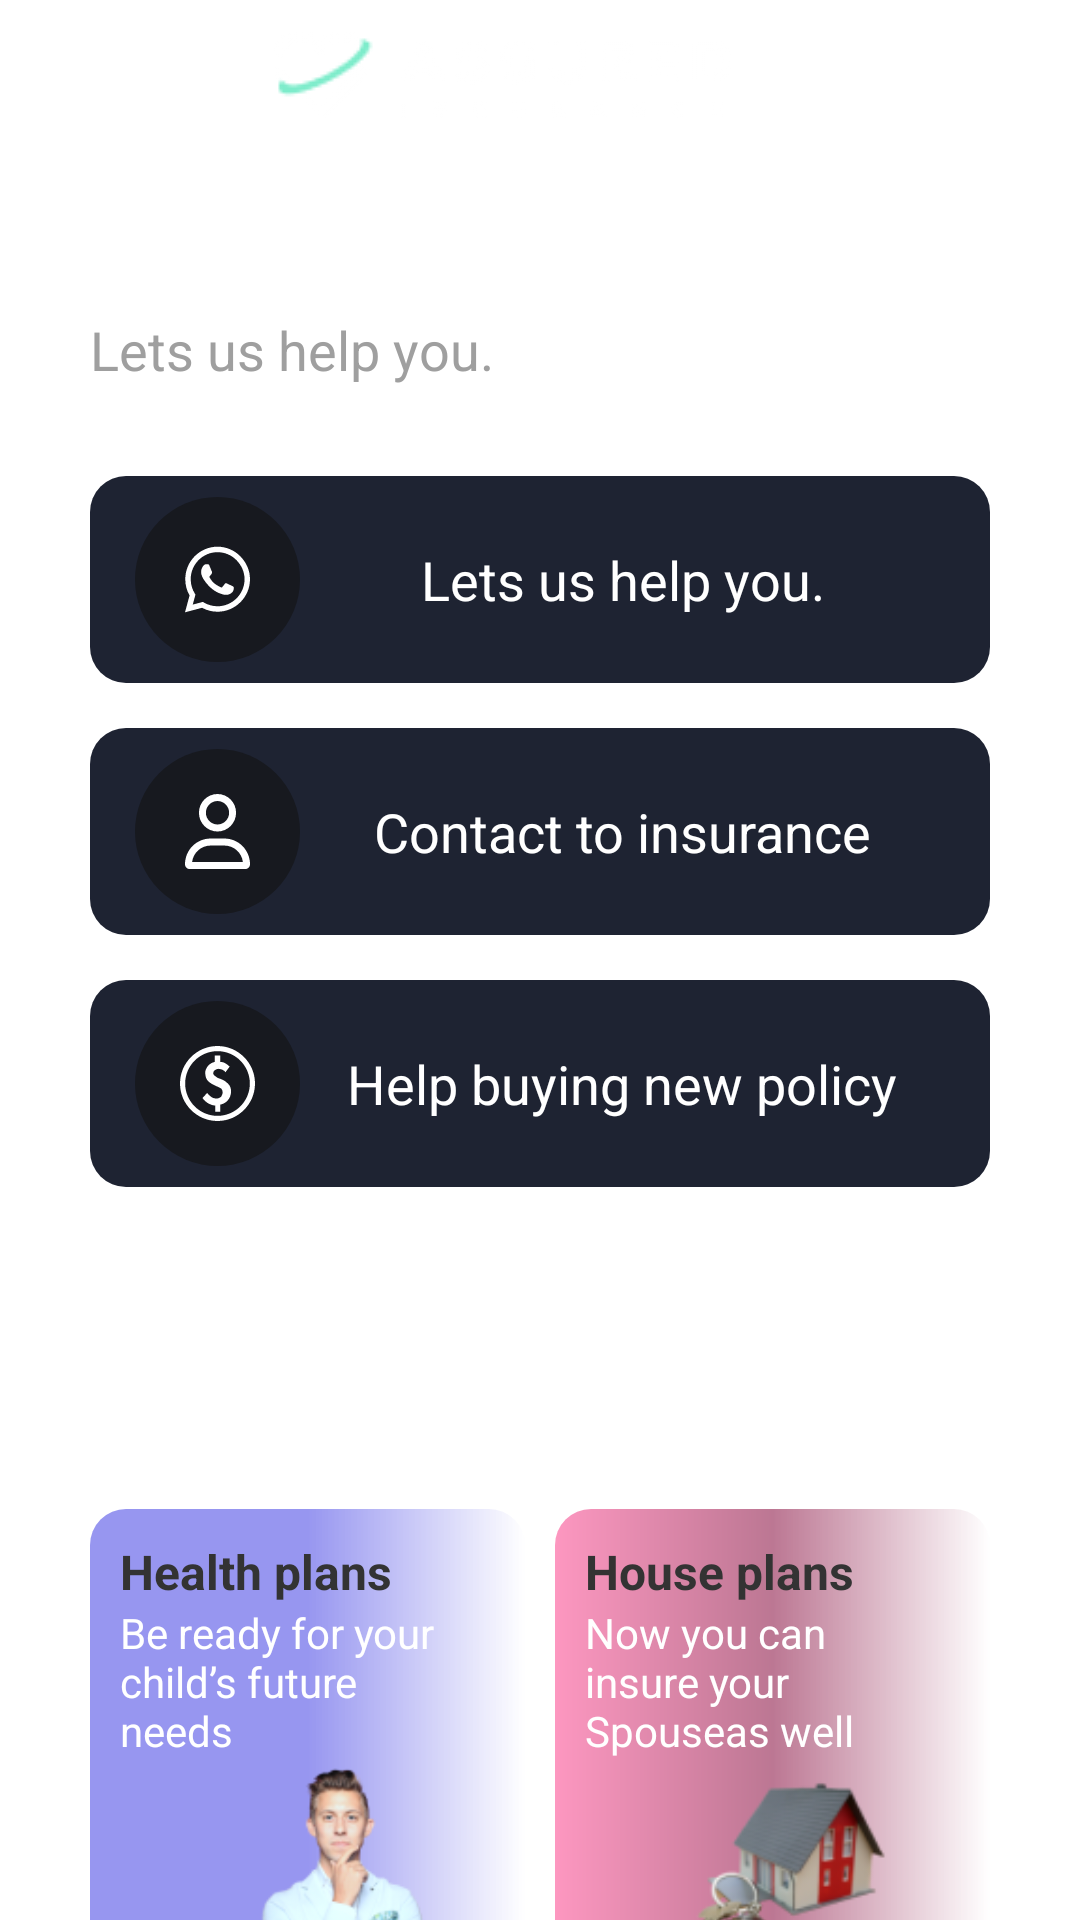

Icon bounding boxes for this 1080×1920 phone screenshot, format box(x1, y1, x2, y2):
usd: box(135, 1001, 300, 1166)
user: box(135, 749, 300, 914)
